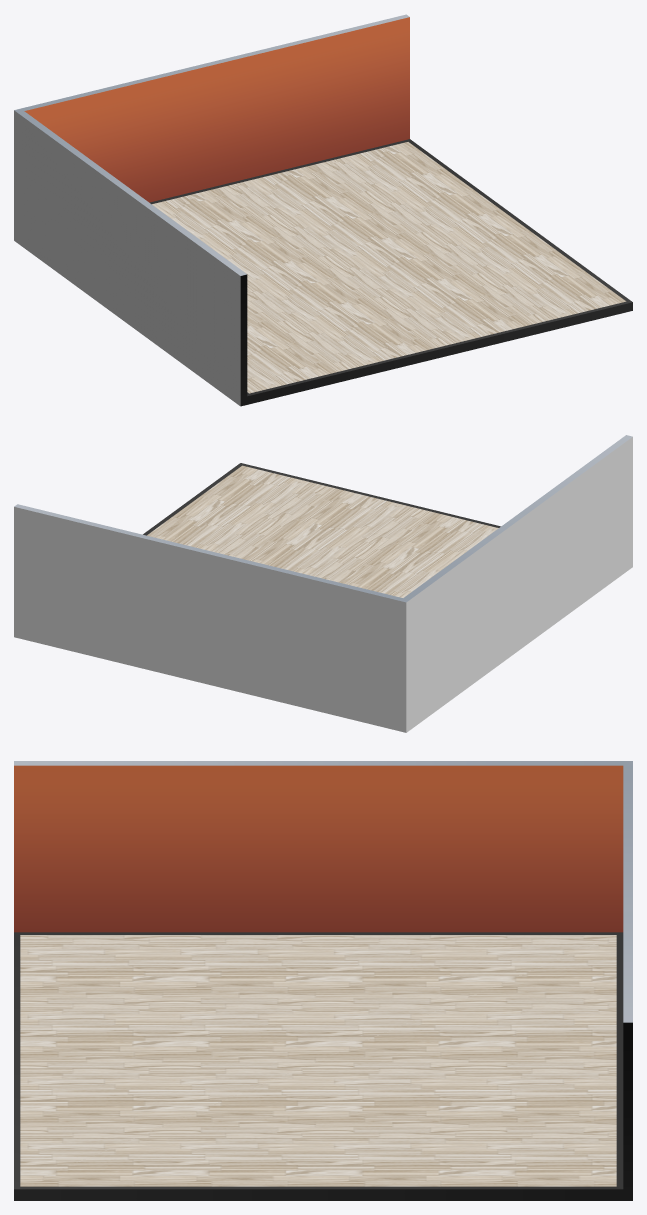
File: cubicle03.glb
The picture shows the model from 3 angles, top to bottom: view 1: azimuth 30°, elevation 25°; view 2: azimuth 150°, elevation 25°; view 3: azimuth 270°, elevation 25°; orthographic projection. The views are drawn at different scales.
Parts seen in each view (by area): view 1: Cubical; view 2: Cubical; view 3: Cubical.
Boxes of the visible parts, x1=… form: Cubical: x1=14, y1=14, x2=632, y2=406; Cubical: x1=14, y1=435, x2=632, y2=732; Cubical: x1=14, y1=761, x2=632, y2=1200.
Bounding box in the file's own units: 10 × 3.18 × 10.
Materials: 1 (1 with a texture image).
